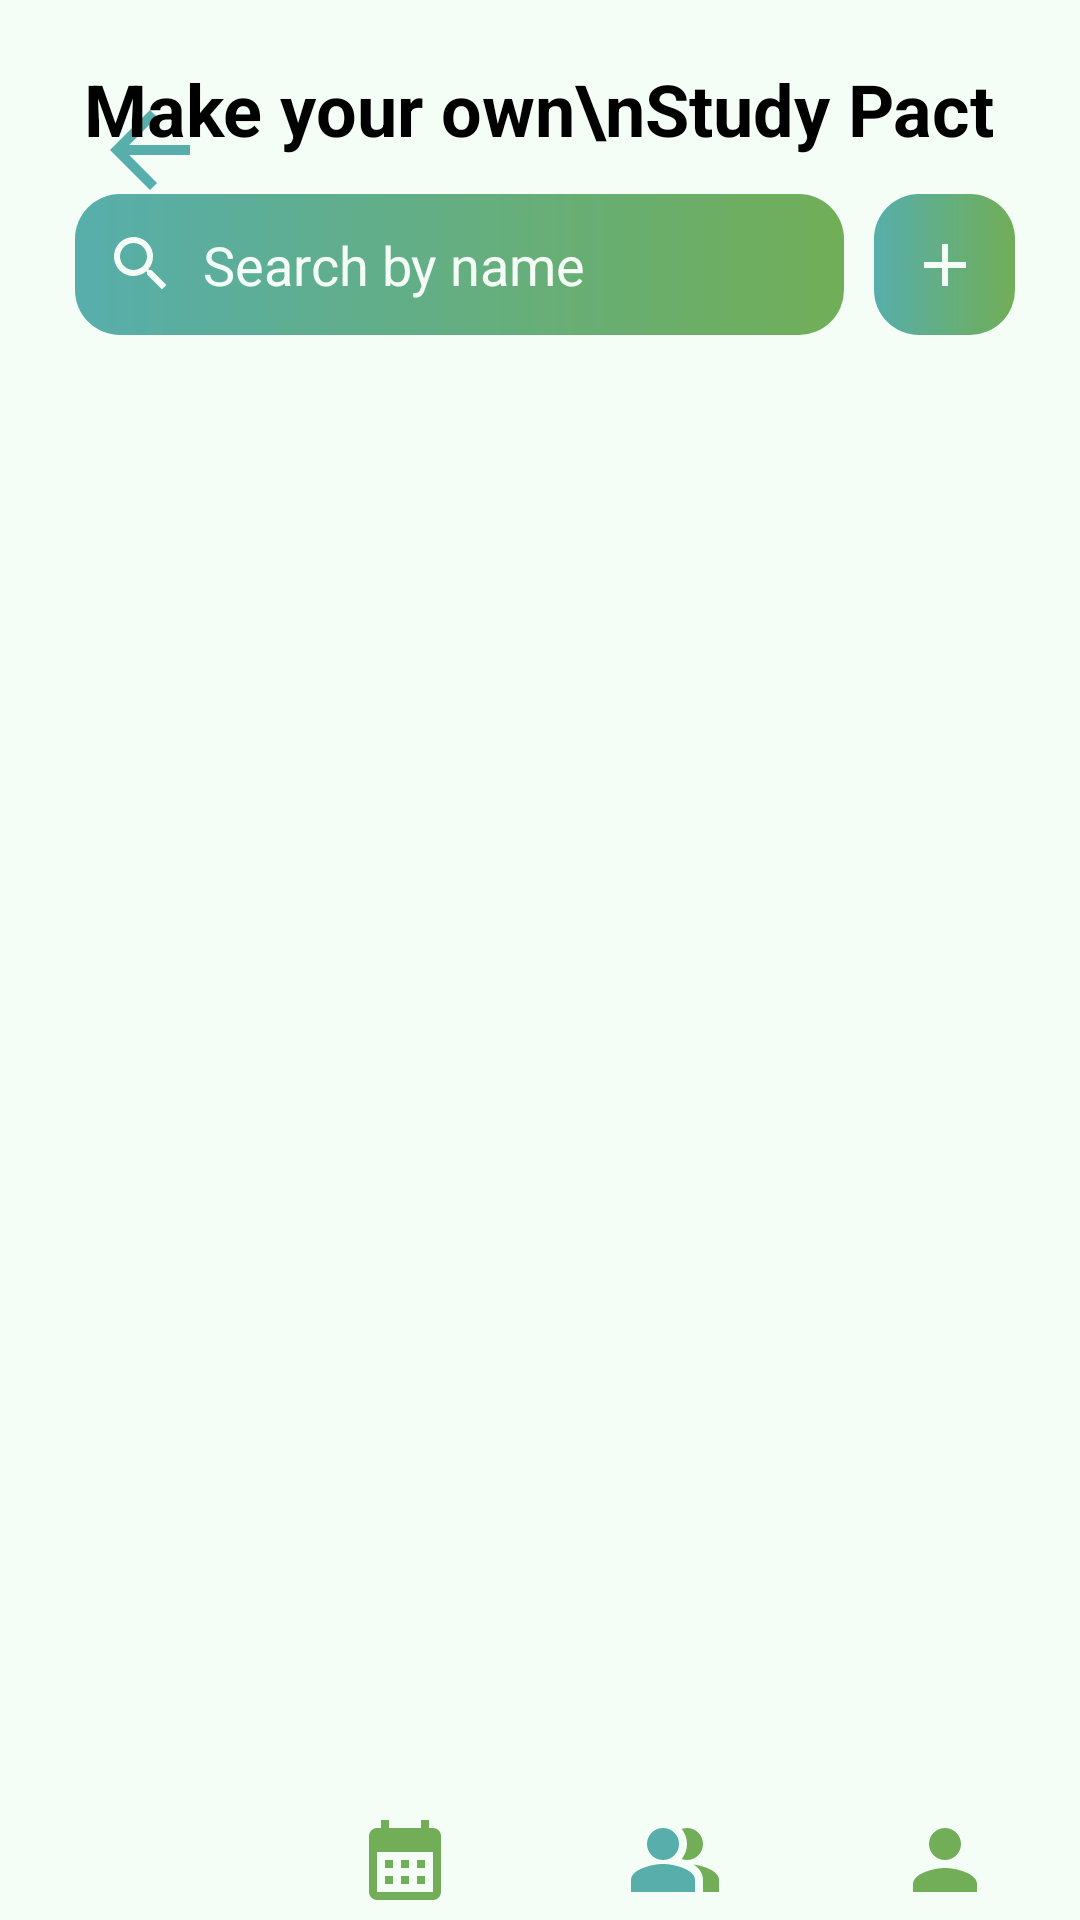

Icon click points for this 1080×1920 phone screenshot, format [x,y]:
add: [944,264]
calendar: [405,1860]
person: [945,1860]
study pact: [675,1860]
